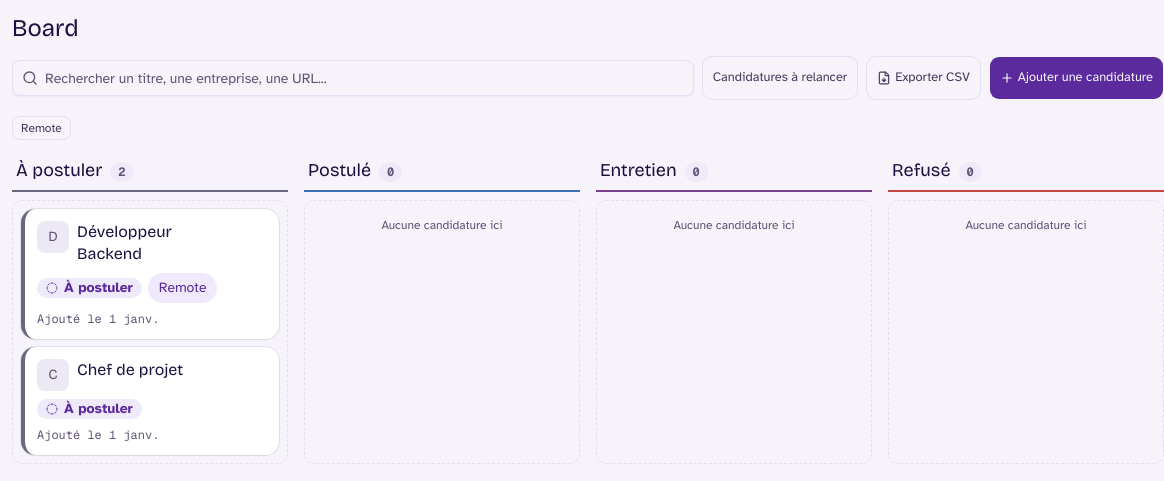
Scenario: Board tag filter › filters cards to those carrying the selected tag
Expected: the text "Développeur Backend" is shown, [77,222,172,263]
Expected: the text "Chef de projet" is shown, [77,359,199,381]
Click the button "Remote" at (41, 128), box [12,116,71,140]
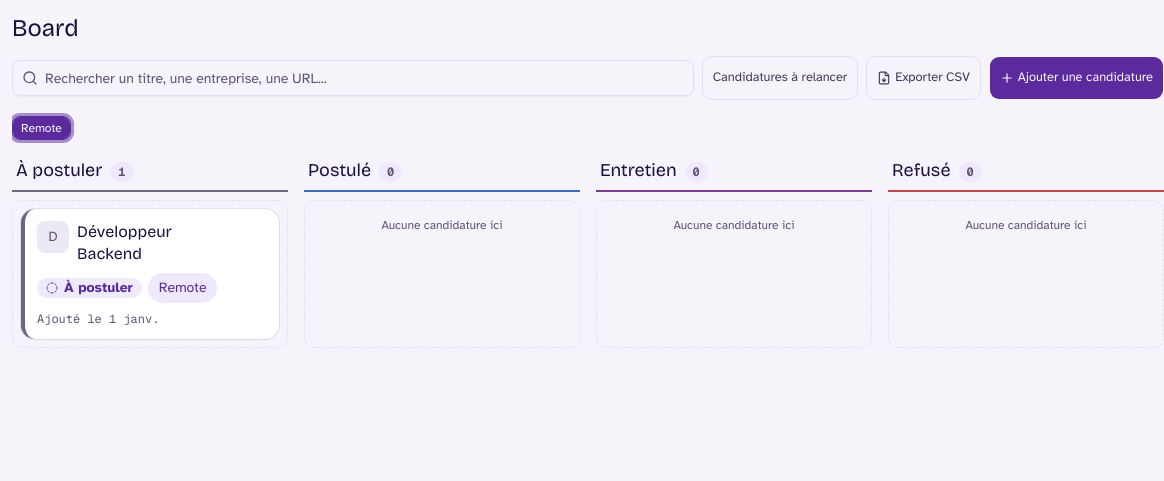
Expected: the text "Développeur Backend" is shown, [77,222,172,263]
Result: the button "Chef de projet" is gone
